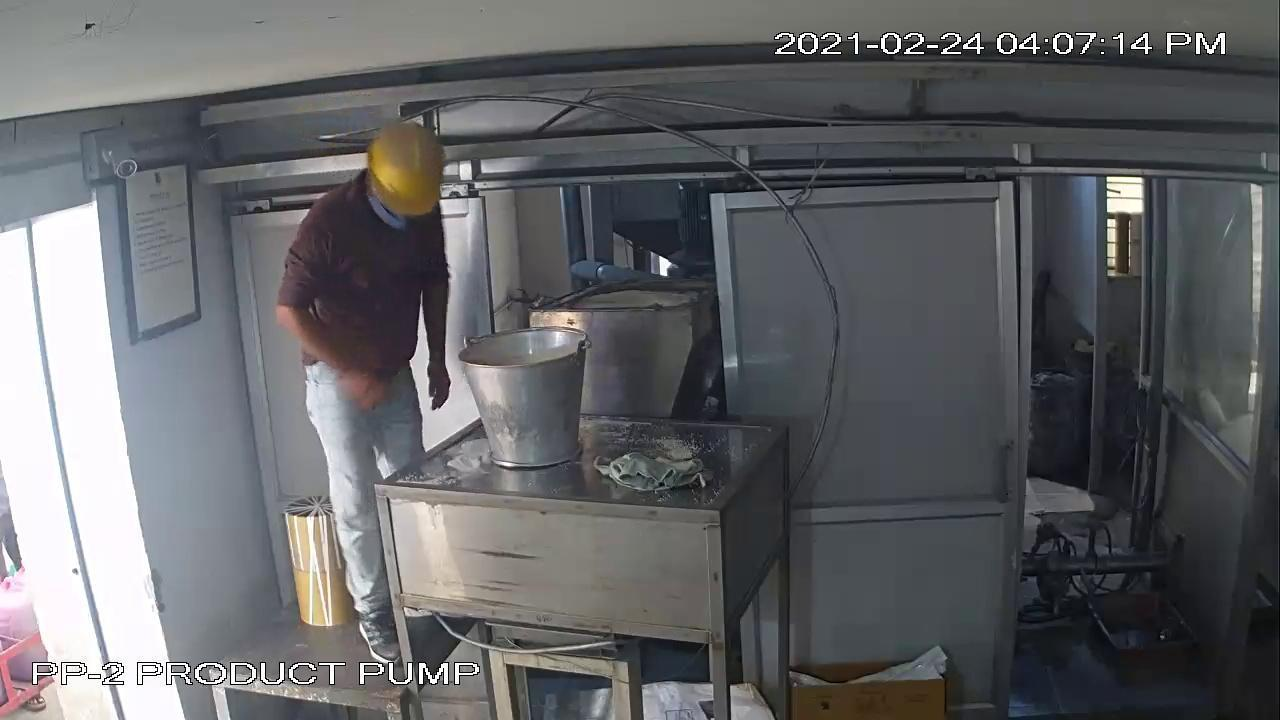helmet: (357, 98, 459, 231)
